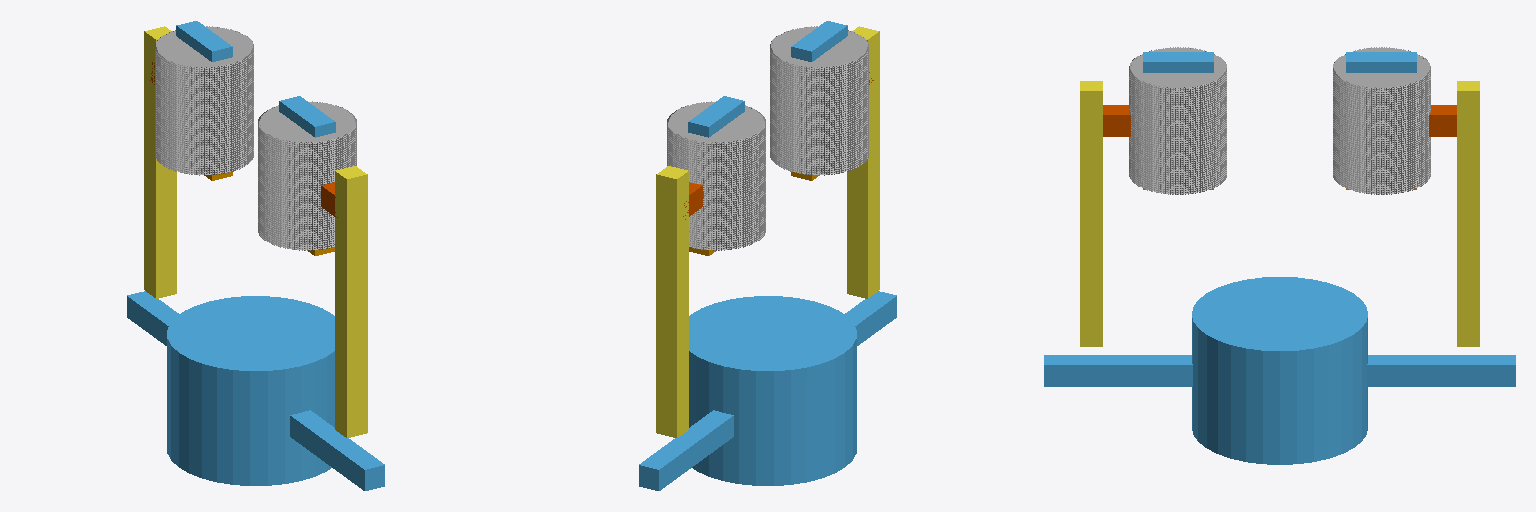
The robot description file, URDF, robot "robot":
<?xml version="0.0"?>
<robot name="">
  <link name="base">
    <inertial>
      <origin xyz="0 0 0" rpy="0 0 0"/>
      <mass value="0.0"/>
      <inertia ixx="0.0" ixy="0" ixz="0" iyy="0.0" iyz="0" izz="0.0"/>
    </inertial>
  </link>
  <link name="forearm">
    <inertial>
      <origin rpy="0.00000 -0.00000 0.00000" xyz="0.00000 0.00000 0.00000" />
      <mass value="0.25525" />
      <inertia ixx="0.1" ixy="0" ixz="0" iyy="0.1" iyz="0" izz="0.1" />
    </inertial>
    <collision>
      <origin rpy="0.00000 -0.00000 0.00000" xyz="0.00000 0.00000 0.00000" />
      <geometry>
        <cylinder length="0.05325" radius="0.03750" />
      </geometry>
    </collision>
    <visual>
      <origin rpy="0.00000 -0.00000 0.00000" xyz="0.00000 0.00000 0.00000" />
      <geometry>
        <cylinder length="0.05325" radius="0.03750" />
      </geometry>
    </visual>
    <visual>
      <origin rpy="0.00000 -0.00000 0.00000" xyz="0.00000 0.0000 0.00000" />
      <geometry>
        <box size="0.01000 0.20000 0.01000" />
      </geometry>
    </visual>
  </link>
  <link name="link0_2">
    <inertial>
      <origin rpy="0.00000 -0.00000 0.00000" xyz="0.00000 0.00000 0.00000" />
      <mass value="0.00000" />
      <inertia ixx="0.00000" ixy="0" ixz="0" iyy="0.00000" iyz="0" izz="0.00000" />
    </inertial>
  </link>
  <link name="l1">
    <inertial>
      <origin rpy="0.00000 -0.00000 0.00000" xyz="0.00000 0.00000 0.00000" />
      <mass value="0.01200" />
      <inertia ixx="0.00001" ixy="0" ixz="0" iyy="0.00001" iyz="0" izz="0.00000" />
    </inertial>
    <collision>
      <origin rpy="0.00000 -0.00000 0.00000" xyz="0.00000 0.00000 0.00000" />
      <geometry>
        <box size="0.01000 0.01000 0.12000" />
      </geometry>
    </collision>
    <visual>
      <origin rpy="0.00000 -0.00000 0.00000" xyz="0.00000 0.00000 0.00000" />
      <geometry>
        <box size="0.01000 0.01000 0.12000" />
      </geometry>
    </visual>
  </link>
  <link name="link0_4">
    <inertial>
      <origin rpy="0.00000 -0.00000 0.00000" xyz="0.00000 0.00000 0.00000" />
      <mass value="0.00000" />
      <inertia ixx="0.00000" ixy="0" ixz="0" iyy="0.00000" iyz="0" izz="0.00000" />
    </inertial>
  </link>
  <link name="l2">
    <inertial>
      <origin rpy="0.00000 -0.00000 0.00000" xyz="0.00000 0.00000 0.00000" />
      <mass value="0.00368" />
      <inertia ixx="0.00000" ixy="0" ixz="0" iyy="0.00000" iyz="0" izz="0.00000" />
    </inertial>
    <!-- <collision>
      <origin rpy="0.00000 -0.00000 0.00000" xyz="0.00000 0.00000 0.00000" />
      <geometry>
        <box size="0.01000 0.03680 0.01000" />
      </geometry>
    </collision> -->
    <visual>
      <origin rpy="0.00000 -0.00000 0.00000" xyz="0.00000 0.00000 0.00000" />
      <geometry>
        <box size="0.01000 0.03680 0.01000" />
      </geometry>
    </visual>
  </link>
  <link name="link0_6">
    <inertial>
      <origin rpy="0.00000 -0.00000 0.00000" xyz="0.00000 0.00000 0.00000" />
      <mass value="0.00000" />
      <inertia ixx="0.00000" ixy="0" ixz="0" iyy="0.00000" iyz="0" izz="0.00000" />
    </inertial>
  </link>
  <link name="l3">
    <inertial>
      <origin rpy="0.00000 -0.00000 0.00000" xyz="0.00000 0.00000 0.00000" />
      <mass value="0.1" />
      <inertia ixx="0.1" ixy="0" ixz="0" iyy="0.1" iyz="0" izz="0.1" />
    </inertial>
    <collision>
      <origin rpy="0.00000 -0.00000 0.00000" xyz="0.00000 0.00000 0.00000" />
      <geometry>
        <!-- <cylinder radius="0.025" length="0.05" /> -->
        <mesh filename="package://robot_properties_fingers/meshes/roller_rough.obj" scale="1 1 1"/>
      </geometry>
    </collision>
    <visual>
      <origin rpy="0.00000 -0.00000 0.00000" xyz="0.00000 0.00000 0.00000" />
      <geometry>
        <mesh filename="package://robot_properties_fingers/meshes/roller_rough.obj" scale="1 1 1"/>
        <!-- <cylinder radius="0.025" length="0.05" /> -->
      </geometry>
    </visual>
  </link>
  <link name="l3_visual_aid_top">
    <inertial>
      <origin rpy="0.00000 -0.00000 0.00000" xyz="0.00000 0.00000 0.00000" />
      <mass value="0.00300" />
      <inertia ixx="0.00000" ixy="0" ixz="0" iyy="0.00000" iyz="0" izz="0.00000" />
    </inertial>
    <!-- <collision>
      <origin rpy="0.00000 -0.00000 0.00000" xyz="0.00000 0.00000 0.00000" />
      <geometry>
        <box size="0.01000 0.03000 0.01000" />
      </geometry>
    </collision> -->
    <visual>
      <origin rpy="0.00000 -0.00000 0.00000" xyz="0.00000 0.00000 0.00000" />
      <geometry>
        <box size="0.01000 0.03000 0.01000" />
      </geometry>
    </visual>
  </link>
  <link name="l3_visual_aid_bottom">
    <inertial>
      <origin rpy="0.00000 -0.00000 0.00000" xyz="0.00000 0.00000 0.00000" />
      <mass value="0.00300" />
      <inertia ixx="0.00000" ixy="0" ixz="0" iyy="0.00000" iyz="0" izz="0.00000" />
    </inertial>
    <!-- <collision>
      <origin rpy="0.00000 -0.00000 0.00000" xyz="0.00000 0.00000 0.00000" />
      <geometry>
        <box size="0.01000 0.03000 0.01000" />
      </geometry>
    </collision> -->
    <visual>
      <origin rpy="0.00000 -0.00000 0.00000" xyz="0.00000 0.00000 0.00000" />
      <geometry>
        <box size="0.01000 0.03000 0.01000" />
      </geometry>
    </visual>
  </link>
  <link name="link0_10">
    <inertial>
      <origin rpy="0.00000 -0.00000 0.00000" xyz="0.00000 0.00000 0.00000" />
      <mass value="0.00000" />
      <inertia ixx="0.00000" ixy="0" ixz="0" iyy="0.00000" iyz="0" izz="0.00000" />
    </inertial>
  </link>
  <link name="r1">
    <inertial>
      <origin rpy="0.00000 -0.00000 0.00000" xyz="0.00000 0.00000 0.00000" />
      <mass value="0.01200" />
      <inertia ixx="0.00001" ixy="0" ixz="0" iyy="0.00001" iyz="0" izz="0.00000" />
    </inertial>
    <collision>
      <origin rpy="0.00000 -0.00000 0.00000" xyz="0.00000 0.00000 0.00000" />
      <geometry>
        <box size="0.01000 0.01000 0.12000" />
      </geometry>
    </collision>
    <visual>
      <origin rpy="0.00000 -0.00000 0.00000" xyz="0.00000 0.00000 0.00000" />
      <geometry>
        <box size="0.01000 0.01000 0.12000" />
      </geometry>
    </visual>
  </link>
  <link name="link0_12">
    <inertial>
      <origin rpy="0.00000 -0.00000 0.00000" xyz="0.00000 0.00000 0.00000" />
      <mass value="0.00000" />
      <inertia ixx="0.00000" ixy="0" ixz="0" iyy="0.00000" iyz="0" izz="0.00000" />
    </inertial>
  </link>
  <link name="r2">
    <inertial>
      <origin rpy="0.00000 -0.00000 0.00000" xyz="0.00000 0.00000 0.00000" />
      <mass value="0.00368" />
      <inertia ixx="0.00000" ixy="0" ixz="0" iyy="0.00000" iyz="0" izz="0.00000" />
    </inertial>
    <!-- <collision>
      <origin rpy="0.00000 -0.00000 0.00000" xyz="0.00000 0.00000 0.00000" />
      <geometry>
        <box size="0.01000 0.03680 0.01000" />
      </geometry>
    </collision> -->
    <visual>
      <origin rpy="0.00000 -0.00000 0.00000" xyz="0.00000 0.00000 0.00000" />
      <geometry>
        <box size="0.01000 0.03680 0.01000" />
      </geometry>
    </visual>
  </link>
  <link name="link0_14">
    <inertial>
      <origin rpy="0.00000 -0.00000 0.00000" xyz="0.00000 0.00000 0.00000" />
      <mass value="0.00000" />
      <inertia ixx="0.00000" ixy="0" ixz="0" iyy="0.00000" iyz="0" izz="0.00000" />
    </inertial>
  </link>
  <link name="r3">
    <inertial>
      <origin rpy="0.00000 -0.00000 0.00000" xyz="0.00000 0.00000 0.00000" />
      <mass value="0.1" />
      <inertia ixx="0.1" ixy="0" ixz="0" iyy="0.1" iyz="0" izz="0.1" />
    </inertial>
    <collision>
      <origin rpy="0.00000 -0.00000 0.00000" xyz="0.00000 0.00000 0.00000" />
      <geometry>
        <!-- <cylinder radius="0.025" length="0.05" /> -->
        <mesh filename="package://robot_properties_fingers/meshes/roller_rough.obj" scale="1 1 1"/>
      </geometry>
    </collision>
    <visual>
      <origin rpy="0.00000 -0.00000 0.00000" xyz="0.00000 0.00000 0.00000" />
      <geometry>
        <mesh filename="package://robot_properties_fingers/meshes/roller_rough.obj" scale="1 1 1"/>
        <!-- <cylinder radius="0.025" length="0.05" /> -->
      </geometry>
    </visual>
  </link>
  <link name="r3_visual_aid_top">
    <inertial>
      <origin rpy="0.00000 -0.00000 0.00000" xyz="0.00000 0.00000 0.00000" />
      <mass value="0.00300" />
      <inertia ixx="0.00000" ixy="0" ixz="0" iyy="0.00000" iyz="0" izz="0.00000" />
    </inertial>
    <!-- <collision>
      <origin rpy="0.00000 -0.00000 0.00000" xyz="0.00000 0.00000 0.00000" />
      <geometry>
        <box size="0.01000 0.03000 0.01000" />
      </geometry>
    </collision> -->
    <visual>
      <origin rpy="0.00000 -0.00000 0.00000" xyz="0.00000 0.00000 0.00000" />
      <geometry>
        <box size="0.01000 0.03000 0.01000" />
      </geometry>
    </visual>
  </link>
  <link name="r3_visual_aid_bottom">
    <inertial>
      <origin rpy="0.00000 -0.00000 0.00000" xyz="0.00000 0.00000 0.00000" />
      <mass value="0.00300" />
      <inertia ixx="0.00000" ixy="0" ixz="0" iyy="0.00000" iyz="0" izz="0.00000" />
    </inertial>
    <!-- <collision>
      <origin rpy="0.00000 -0.00000 0.00000" xyz="0.00000 0.00000 0.00000" />
      <geometry>
        <box size="0.01000 0.03000 0.01000" />
      </geometry>
    </collision> -->
    <visual>
      <origin rpy="0.00000 -0.00000 0.00000" xyz="0.00000 0.00000 0.00000" />
      <geometry>
        <box size="0.01000 0.03000 0.01000" />
      </geometry>
    </visual>
  </link>
  <joint name="wrist" type="revolute">
    <parent link="base" />
    <child link="forearm" />
    <dynamics damping="1.0" friction="0.0001" />
    <origin rpy="0.00000 -0.00000 0.00000" xyz="0.00000 0.00000 0.00" />
    <axis xyz="0.00000 0.00000 1.00000" />
  </joint>
  <joint name="finger_l" type="prismatic">
    <parent link="forearm" />
    <child link="link0_2" />
    <limit effort="1000.0" lower="-0.50000" upper="0.50000" velocity="0.5" />
    <dynamics damping="1.0" friction="0.0001" />
    <origin rpy="0.00000 -0.00000 0.00000" xyz="0.00000 -0.03000 0.03000" />
    <axis xyz="0.00000 1.00000 0.00000" />
  </joint>
  <joint name="jointfix_4_2" type="fixed">
    <parent link="link0_2" />
    <child link="l1" />
    <dynamics damping="1.0" friction="0.0001" />
    <origin rpy="0.00000 -0.00000 0.00000" xyz="0.00000 -0.05000 0.04352" />
    <axis xyz="0.00000 0.00000 0.00000" />
  </joint>
  <joint name="pitch_l" type="revolute">
    <parent link="l1" />
    <child link="link0_4" />
    <dynamics damping="1.0" friction="0.0001" />
    <origin rpy="0.00000 -0.00000 0.00000" xyz="0.00000 0.00000 0.04352" />
    <axis xyz="0.00000 1.00000 0.00000" />
  </joint>
  <joint name="jointfix_3_4" type="fixed">
    <parent link="link0_4" />
    <child link="l2" />
    <dynamics damping="1.0" friction="0.0001" />
    <origin rpy="0.00000 -0.00000 0.00000" xyz="0.00000 0.01840 0.00000" />
    <axis xyz="0.00000 0.00000 0.00000" />
  </joint>
  <joint name="roll_l" type="revolute">
    <parent link="l2" />
    <child link="link0_6" />
    <dynamics damping="1.0" friction="0.0001" />
    <origin rpy="0.00000 -0.00000 0.00000" xyz="0.00000 0.01840 0.00000" />
    <axis xyz="0.00000 0.00000 1.00000" />
  </joint>
  <joint name="jointfix_2_6" type="fixed">
    <parent link="link0_6" />
    <child link="l3" />
    <dynamics damping="1.0" friction="0.0001" />
    <origin rpy="0.00000 -0.00000 0.00000" xyz="0.00000 0.00000 0.00000" />
    <axis xyz="0.00000 0.00000 0.00000" />
  </joint>
  <joint name="jointfix_0_5" type="fixed">
    <parent link="l3" />
    <child link="l3_visual_aid_top" />
    <dynamics damping="1.0" friction="0.0001" />
    <origin rpy="0.00000 -0.00000 0.00000" xyz="0.00000 0.00000 -0.02500" />
    <axis xyz="0.00000 0.00000 0.00000" />
  </joint>
  <joint name="jointfix_1_5" type="fixed">
    <parent link="l3" />
    <child link="l3_visual_aid_bottom" />
    <dynamics damping="1.0" friction="0.0001" />
    <origin rpy="0.00000 -0.00000 0.00000" xyz="0.00000 0.00000 0.02500" />
    <axis xyz="0.00000 0.00000 0.00000" />
  </joint>
  <joint name="finger_r" type="prismatic">
    <parent link="forearm" />
    <child link="link0_10" />
    <limit effort="1000.0" lower="-0.50000" upper="0.50000" velocity="0.5" />
    <dynamics damping="1.0" friction="0.0001" />
    <origin rpy="0.00000 -0.00000 0.00000" xyz="0.00000 0.03000 0.03000" />
    <axis xyz="0.00000 -1.00000 0.00000" />
  </joint>
  <joint name="jointfix_9_10" type="fixed">
    <parent link="link0_10" />
    <child link="r1" />
    <dynamics damping="1.0" friction="0.0001" />
    <origin rpy="0.00000 -0.00000 0.00000" xyz="0.00000 0.05000 0.04352" />
    <axis xyz="0.00000 0.00000 0.00000" />
  </joint>
  <joint name="pitch_r" type="revolute">
    <parent link="r1" />
    <child link="link0_12" />
    <dynamics damping="1.0" friction="0.0001" />
    <origin rpy="0.00000 -0.00000 0.00000" xyz="0.00000 -0.03680 0.04352" />
    <axis xyz="0.00000 1.00000 0.00000" />
  </joint>
  <joint name="jointfix_8_12" type="fixed">
    <parent link="link0_12" />
    <child link="r2" />
    <dynamics damping="1.0" friction="0.0001" />
    <origin rpy="0.00000 -0.00000 0.00000" xyz="0.00000 0.01840 0.00000" />
    <axis xyz="0.00000 0.00000 0.00000" />
  </joint>
  <joint name="roll_r" type="revolute">
    <parent link="r2" />
    <child link="link0_14" />
    <dynamics damping="1.0" friction="0.0001" />
    <origin rpy="0.00000 -0.00000 0.00000" xyz="0.00000 -0.01840 0.00000" />
    <axis xyz="0.00000 0.00000 1.00000" />
  </joint>
  <joint name="jointfix_7_14" type="fixed">
    <parent link="link0_14" />
    <child link="r3" />
    <dynamics damping="1.0" friction="0.0001" />
    <origin rpy="0.00000 -0.00000 0.00000" xyz="0.00000 0.00000 0.00000" />
    <axis xyz="0.00000 0.00000 0.00000" />
  </joint>
  <joint name="jointfix_5_13" type="fixed">
    <parent link="r3" />
    <child link="r3_visual_aid_top" />
    <dynamics damping="1.0" friction="0.0001" />
    <origin rpy="0.00000 -0.00000 0.00000" xyz="0.00000 0.00000 -0.02500" />
    <axis xyz="0.00000 0.00000 0.00000" />
  </joint>
  <joint name="jointfix_6_13" type="fixed">
    <parent link="r3" />
    <child link="r3_visual_aid_bottom" />
    <dynamics damping="1.0" friction="0.0001" />
    <origin rpy="0.00000 -0.00000 0.00000" xyz="0.00000 0.00000 0.02500" />
    <axis xyz="0.00000 0.00000 0.00000" />
  </joint>
</robot>

--- What the picture shows (computed from the rendered views, not written in the file) ---
3 views of the same robot in one strip: view 1: azimuth 30°, elevation 25°; view 2: azimuth 150°, elevation 25°; view 3: azimuth 270°, elevation 25° (orthographic).
Robot: robot — 18 links, 17 joints (5 revolute, 2 prismatic, 10 fixed); root link base; default pose: every joint at zero.
Links seen in each view (by area): view 1: forearm, r3, l3, l1, r1, l3_visual_aid_bottom, r3_visual_aid_bottom; view 2: forearm, l3, r3, r1, l1, l3_visual_aid_bottom, r3_visual_aid_bottom; view 3: forearm, l3, r3, l1, r1, l3_visual_aid_bottom, r3_visual_aid_bottom, l2, r2.
Link boxes in pixels (box(x1,y1,x2,y2)): forearm: box(127, 291, 384, 490); r3: box(155, 26, 253, 175); l3: box(258, 101, 356, 250); l1: box(335, 166, 367, 437); r1: box(144, 26, 176, 298); l3_visual_aid_bottom: box(279, 96, 335, 137); r3_visual_aid_bottom: box(176, 21, 232, 61); forearm: box(639, 291, 896, 490); l3: box(770, 26, 868, 175); r3: box(667, 101, 765, 250); r1: box(656, 166, 688, 437); l1: box(847, 26, 879, 298); l3_visual_aid_bottom: box(791, 21, 847, 61); r3_visual_aid_bottom: box(688, 96, 744, 137); forearm: box(1044, 277, 1515, 464); l3: box(1129, 47, 1226, 194); r3: box(1333, 47, 1430, 194); l1: box(1080, 81, 1102, 346); r1: box(1457, 81, 1479, 346); l3_visual_aid_bottom: box(1143, 52, 1213, 72); r3_visual_aid_bottom: box(1346, 52, 1416, 72); l2: box(1103, 105, 1130, 136); r2: box(1429, 105, 1456, 136).
Bounding box of the posed robot: 0.075 × 0.2 × 0.1737 m (x, y, z).
2 mesh visuals loaded from 1 distinct referenced files (1 OBJ).